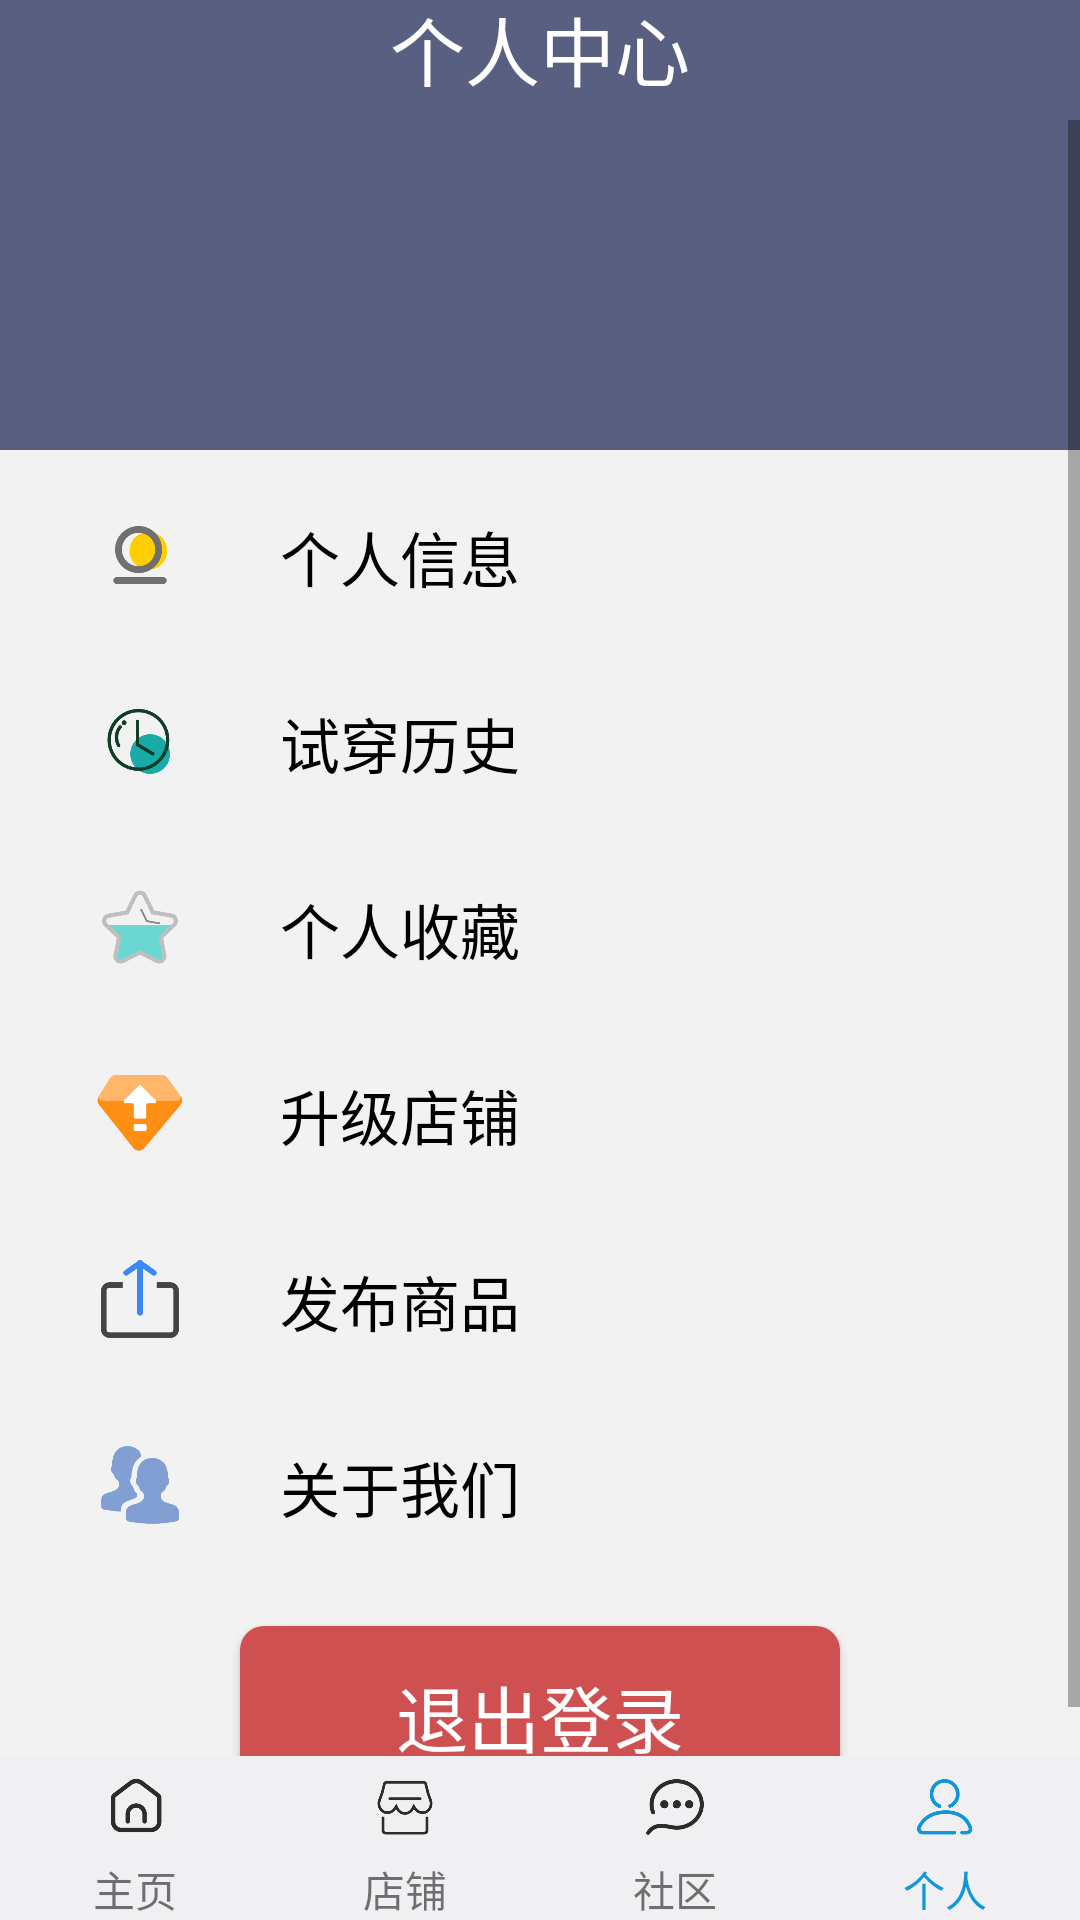

Screen size 1080w x 1920h. Icon name, then its box in pixels as [x1, y1, x2, y2]:
collect: [102, 891, 178, 964]
history: [107, 709, 170, 774]
message: [646, 1779, 704, 1835]
self info: [113, 526, 167, 584]
upgrade: [97, 1075, 182, 1151]
